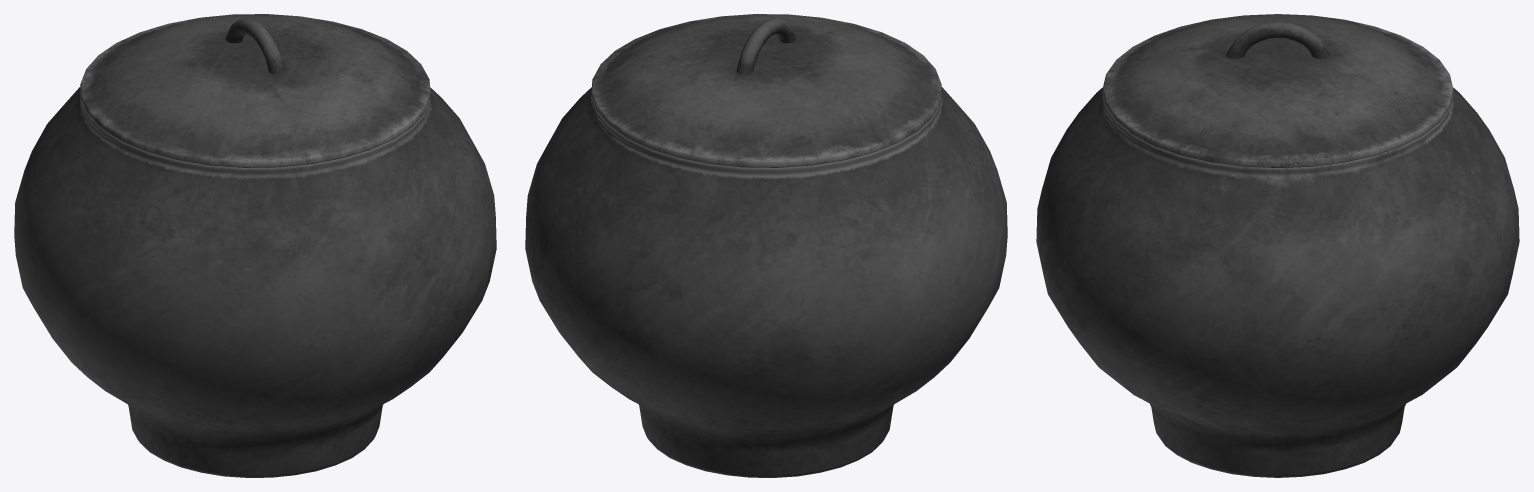
File: Cauldron.fbx
3 views of the same model, side by side, from view 1: azimuth 30°, elevation 25°; view 2: azimuth 150°, elevation 25°; view 3: azimuth 270°, elevation 25° (orthographic).
Parts seen in each view (by area): view 1: Окружность.003, Окружность.001, Окружность.002; view 2: Окружность.003, Окружность.001, Окружность.002; view 3: Окружность.003, Окружность.001, Окружность.002.
Part boxes in pixels (x1,y1,x2,y2): Окружность.003: (14,87,496,477); Окружность.001: (80,14,430,167); Окружность.002: (225,18,285,74); Окружность.003: (525,87,1007,477); Окружность.001: (591,14,941,167); Окружность.002: (736,18,796,74); Окружность.003: (1036,87,1519,477); Окружность.001: (1102,14,1453,167); Окружность.002: (1225,21,1330,58).
Size of the model in its own units: 159 by 147 by 159.
Materials: 2 (2 with a texture image).
